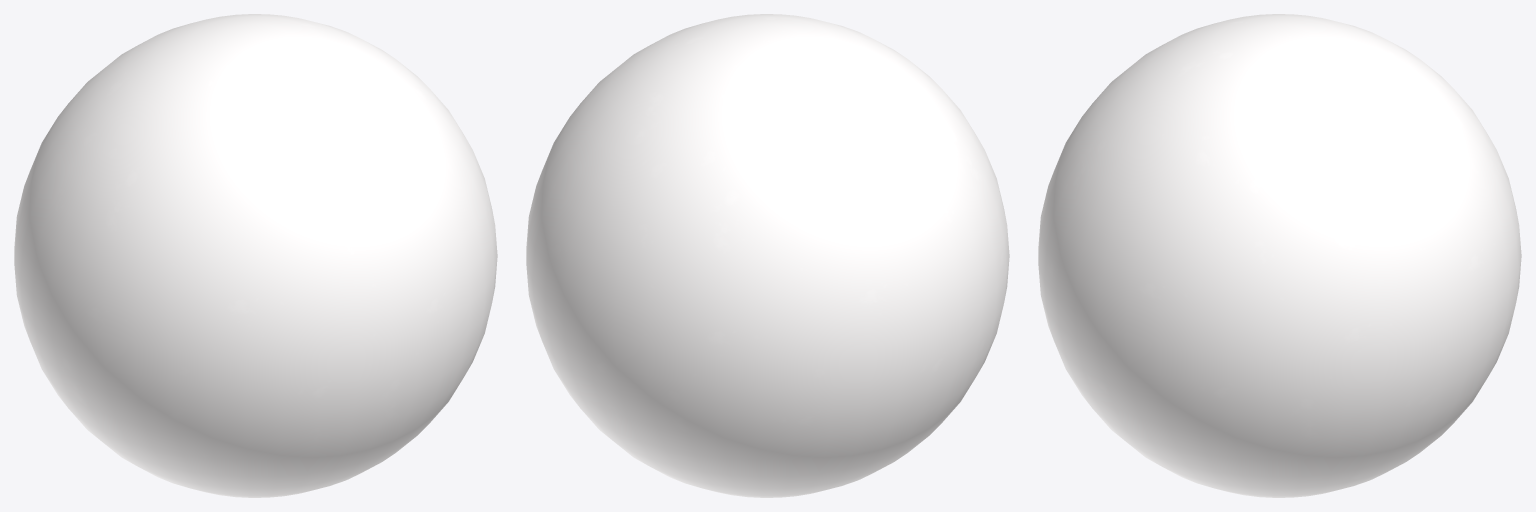
The picture shows the model from 3 angles, left to right: view 1: azimuth 30°, elevation 25°; view 2: azimuth 150°, elevation 25°; view 3: azimuth 270°, elevation 25°; orthographic projection.
Parts seen in each view (by area): view 1: clouds; view 2: clouds; view 3: clouds.
Part boxes in pixels (box(x1,y1,x2,y2)): clouds: box(14, 14, 497, 497); clouds: box(526, 14, 1009, 497); clouds: box(1038, 14, 1521, 497).
Size of the model in its own units: 202 by 202 by 202.
